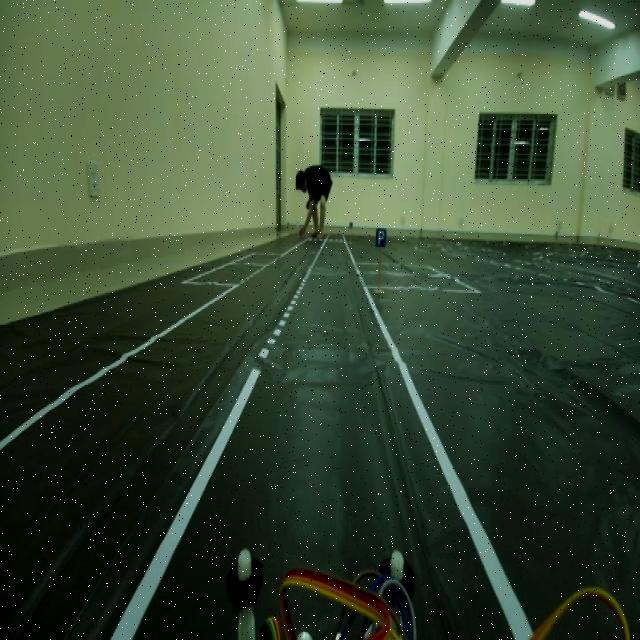parking: (374, 220, 389, 254)
